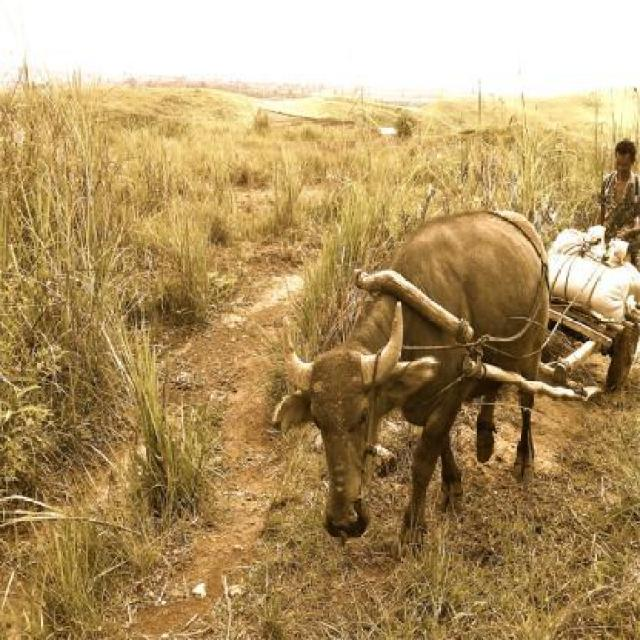Person: (592, 132, 638, 266)
